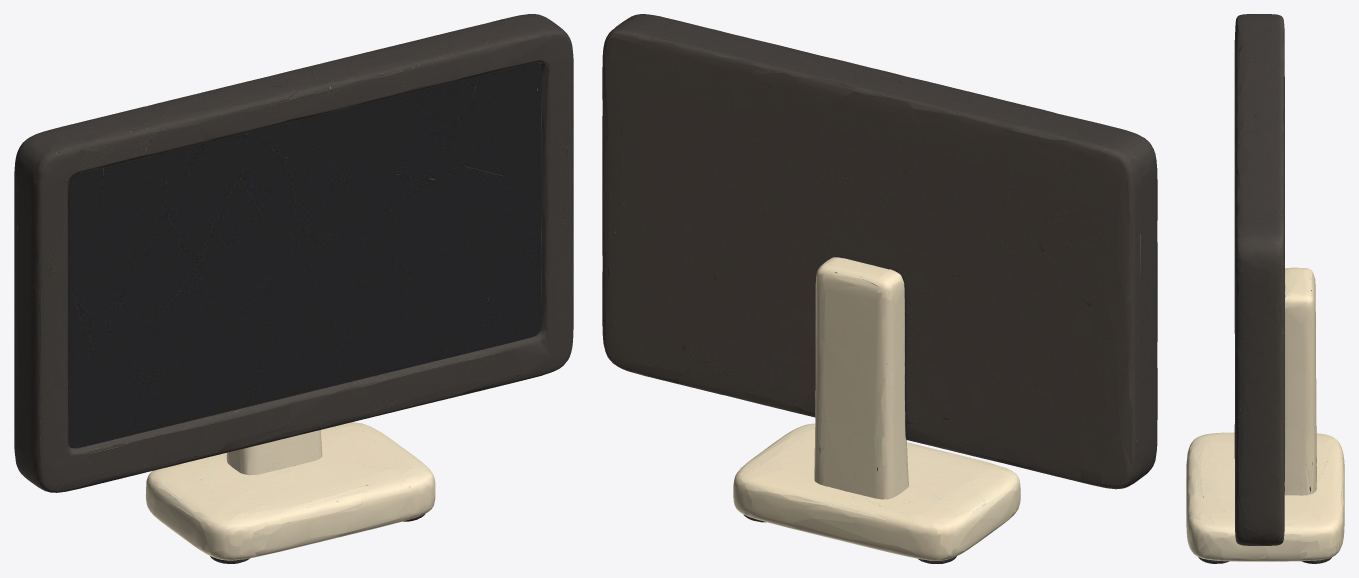
File: monitor.glb
3 renders of one model, left to right at view 1: azimuth 30°, elevation 25°; view 2: azimuth 150°, elevation 25°; view 3: azimuth 270°, elevation 25°, orthographic. The views are drawn at different scales.
Visible parts, largest first — view 1: mesh_node; view 2: mesh_node; view 3: mesh_node.
Part boxes in pixels (x1=…): mesh_node: x1=14, y1=14, x2=573, y2=563; mesh_node: x1=602, y1=14, x2=1157, y2=563; mesh_node: x1=1186, y1=14, x2=1344, y2=563.
Size of the model in its own units: 0.32 by 0.249 by 0.0901.
Materials: 1 (1 with a texture image).
